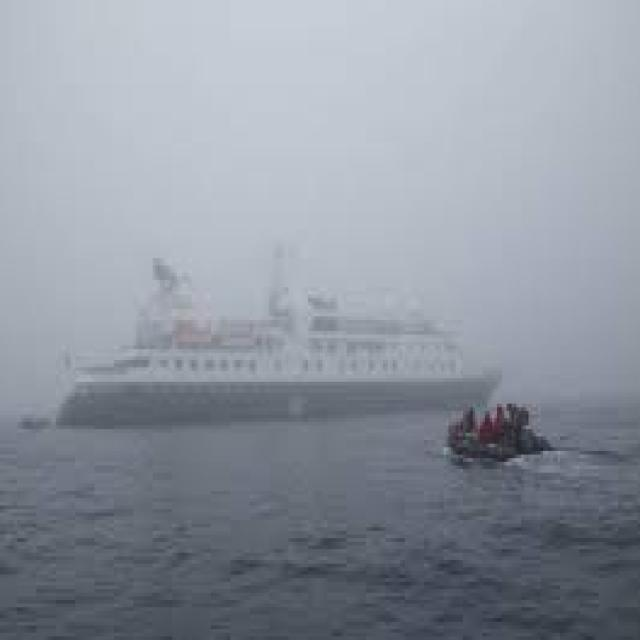passenger ship: (48, 276, 512, 431)
